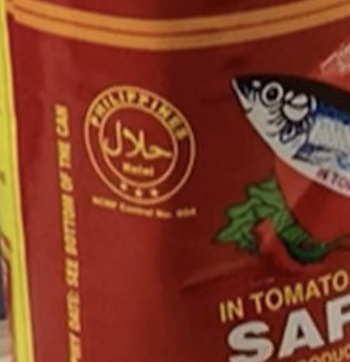halal: (102, 121, 173, 163)
